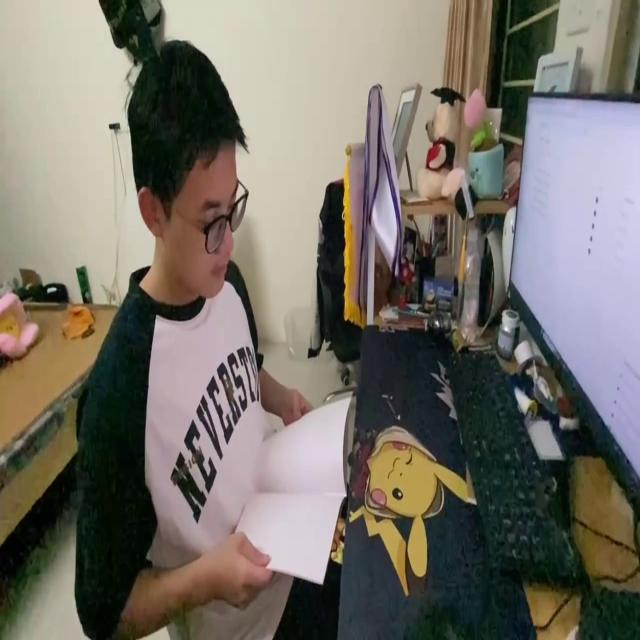book: (231, 388, 354, 590)
laptop: (502, 87, 640, 517)
student: (66, 35, 344, 640)
